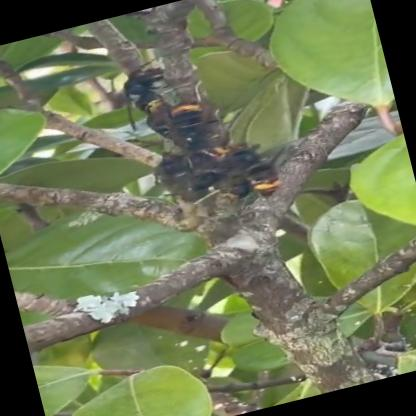bee: (106, 53, 228, 199), (208, 136, 284, 214), (150, 98, 214, 152)
